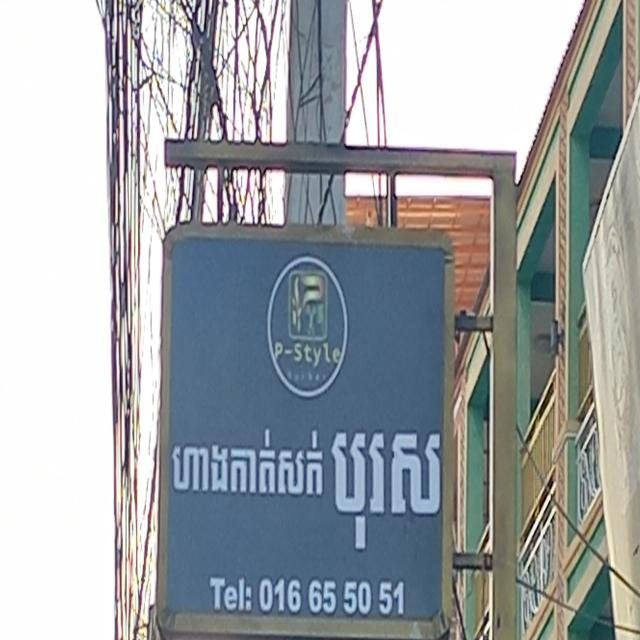310: (255, 567, 410, 620)
Yolov11kh: (170, 406, 444, 556)
